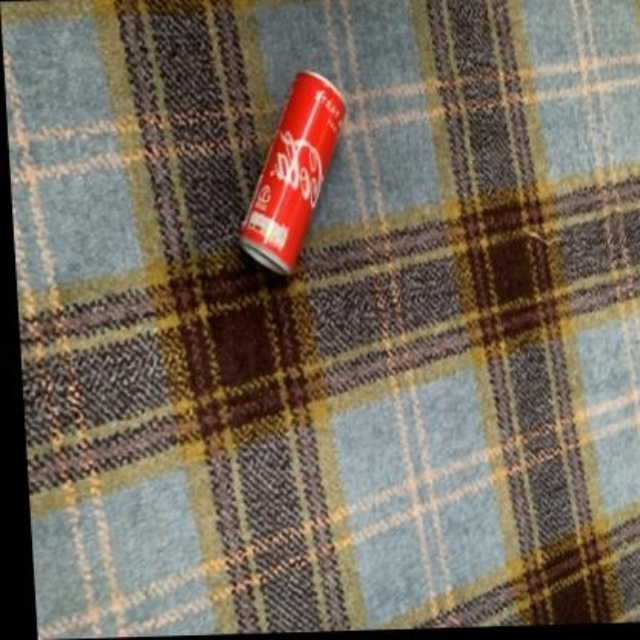trash: (238, 72, 343, 272)
